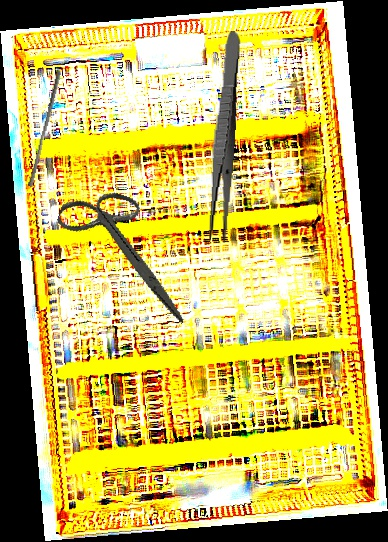Dressing Forceps: (205, 30, 243, 244)
Iris Scissors: (38, 178, 215, 324)
Pusher: (27, 68, 62, 189)
